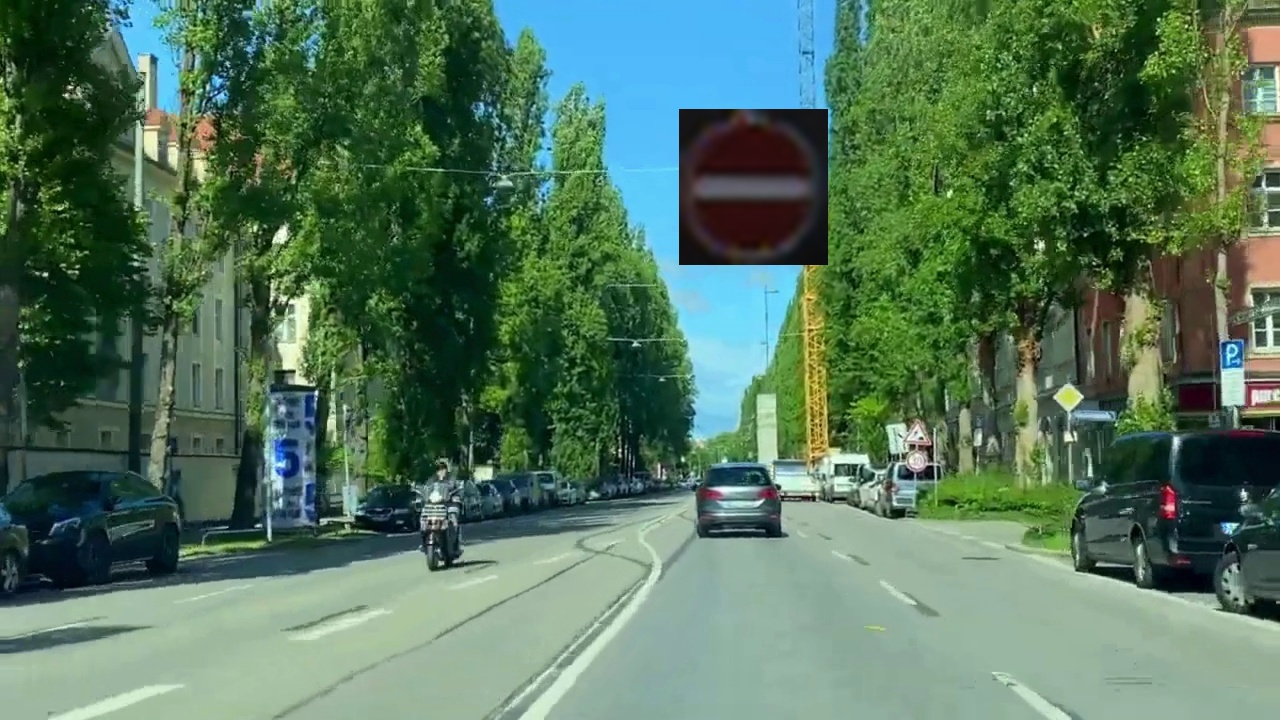No entry: (679, 109, 828, 265)
